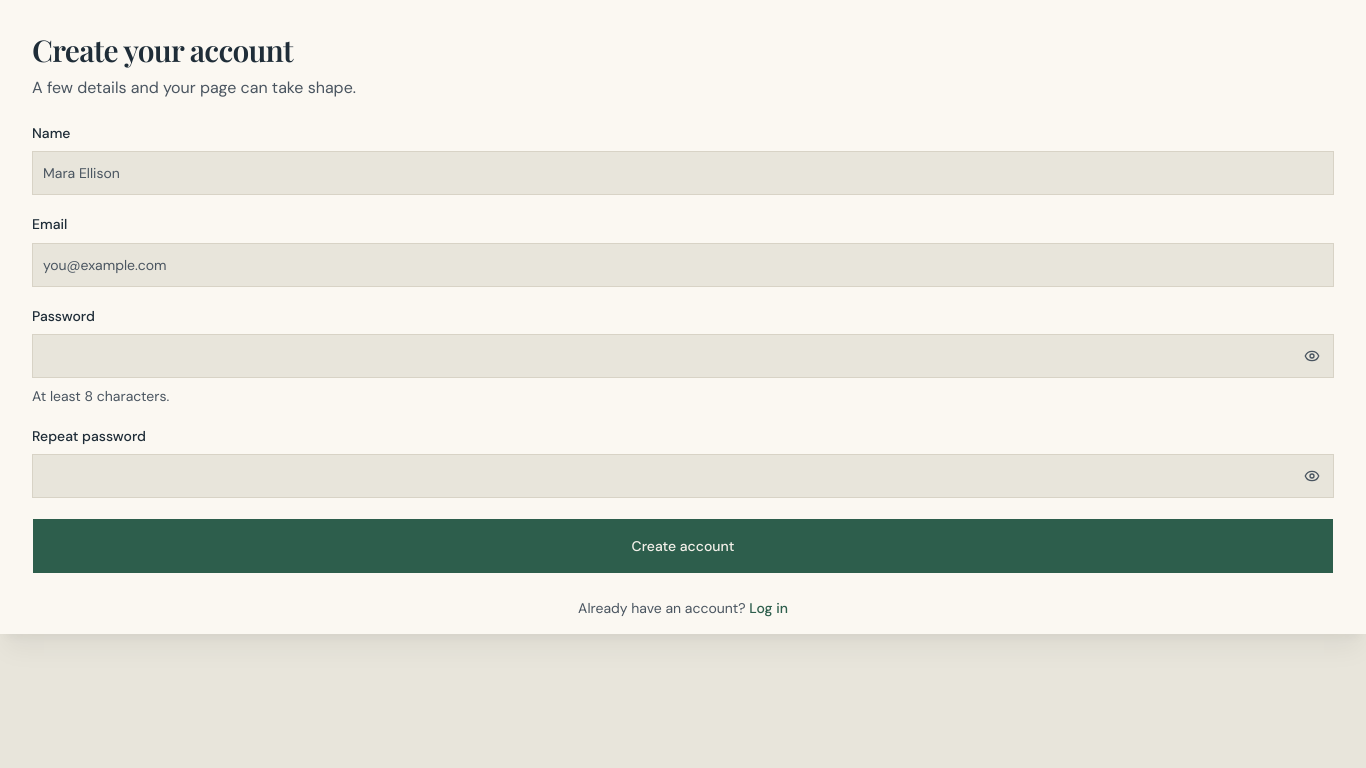
Scenario: SignupFlow › after sign-up it asks to confirm the email instead of opening the dashboard
In the field labelled "Name": (683, 173) 32,151 -> 1334,195, type "Mara"
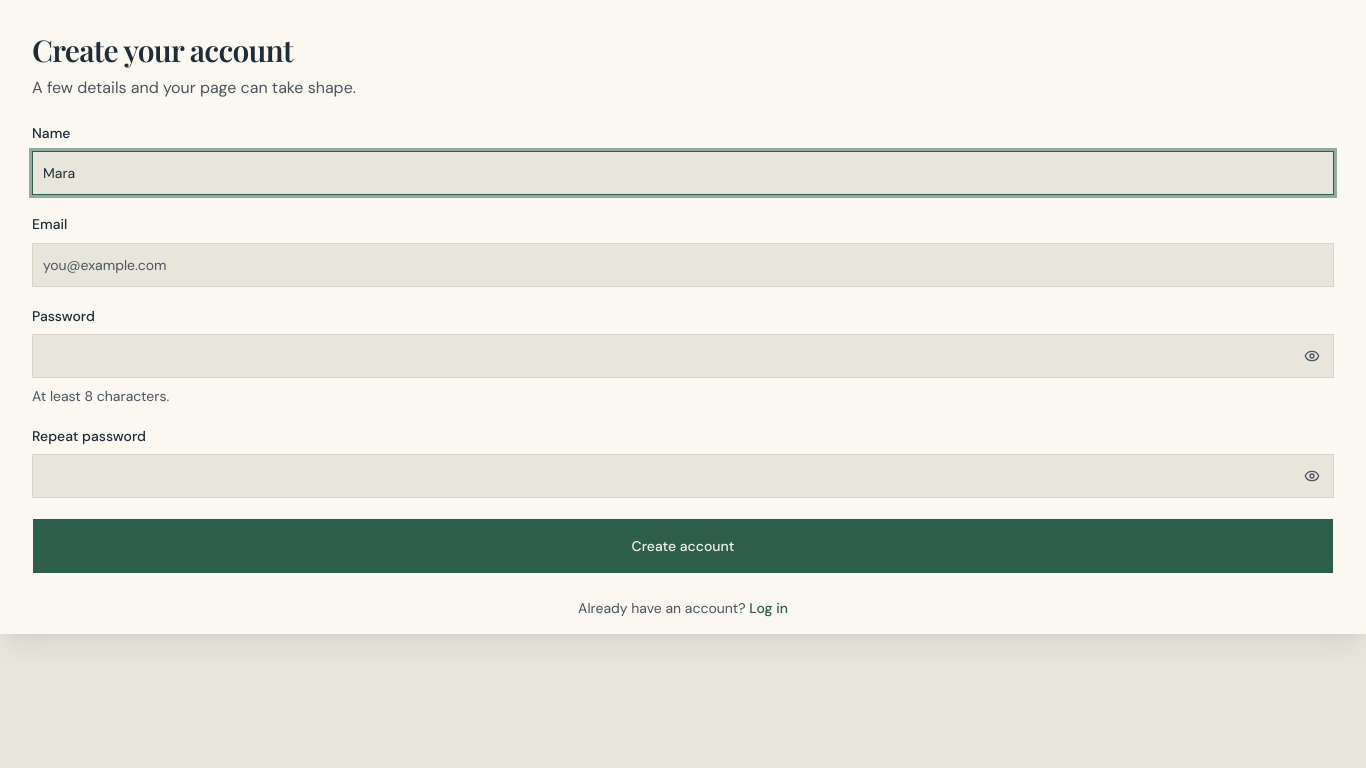
In the field labelled "Email": (683, 264) 32,242 -> 1334,286, type "mara@example.com"
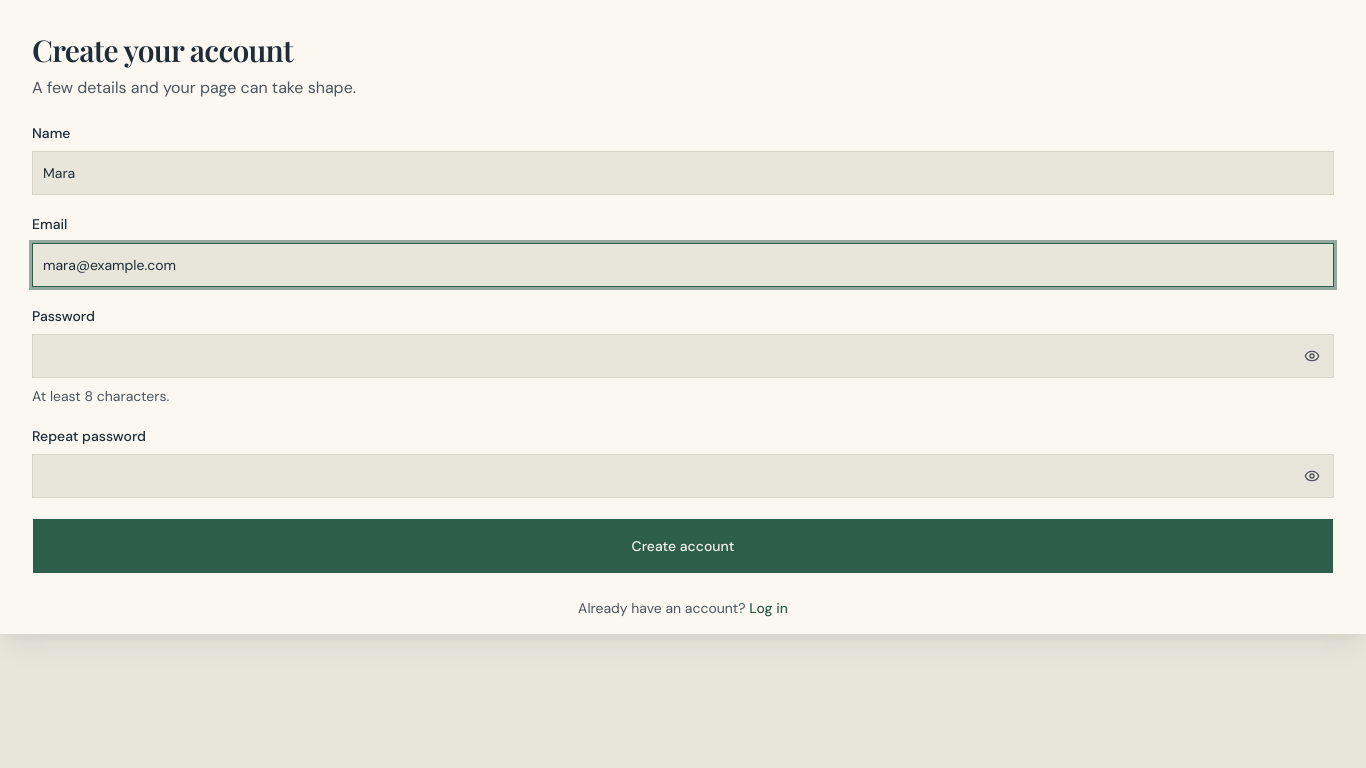
In the password field labelled "Password": (683, 356) 32,334 -> 1334,378, type "long enough"
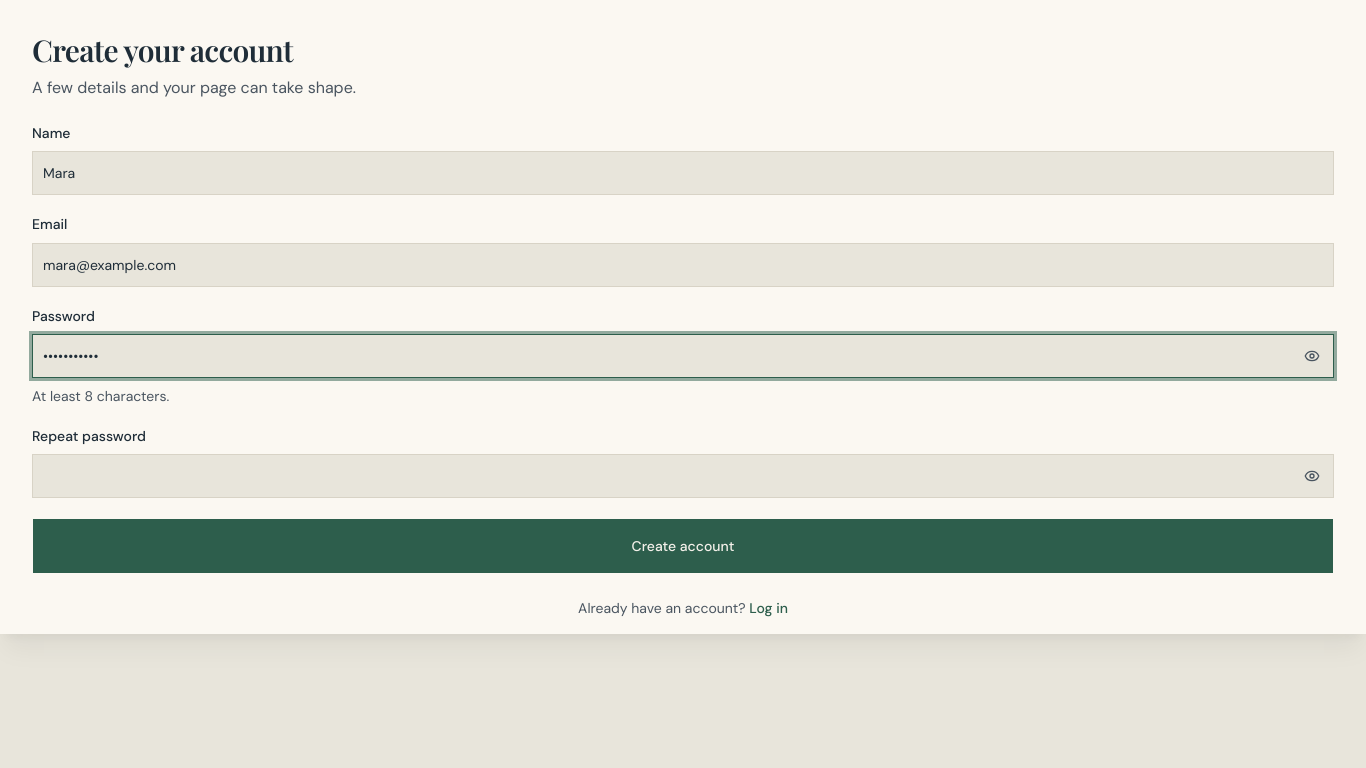
In the password field labelled "Repeat password": (683, 476) 32,454 -> 1334,498, type "long enough"
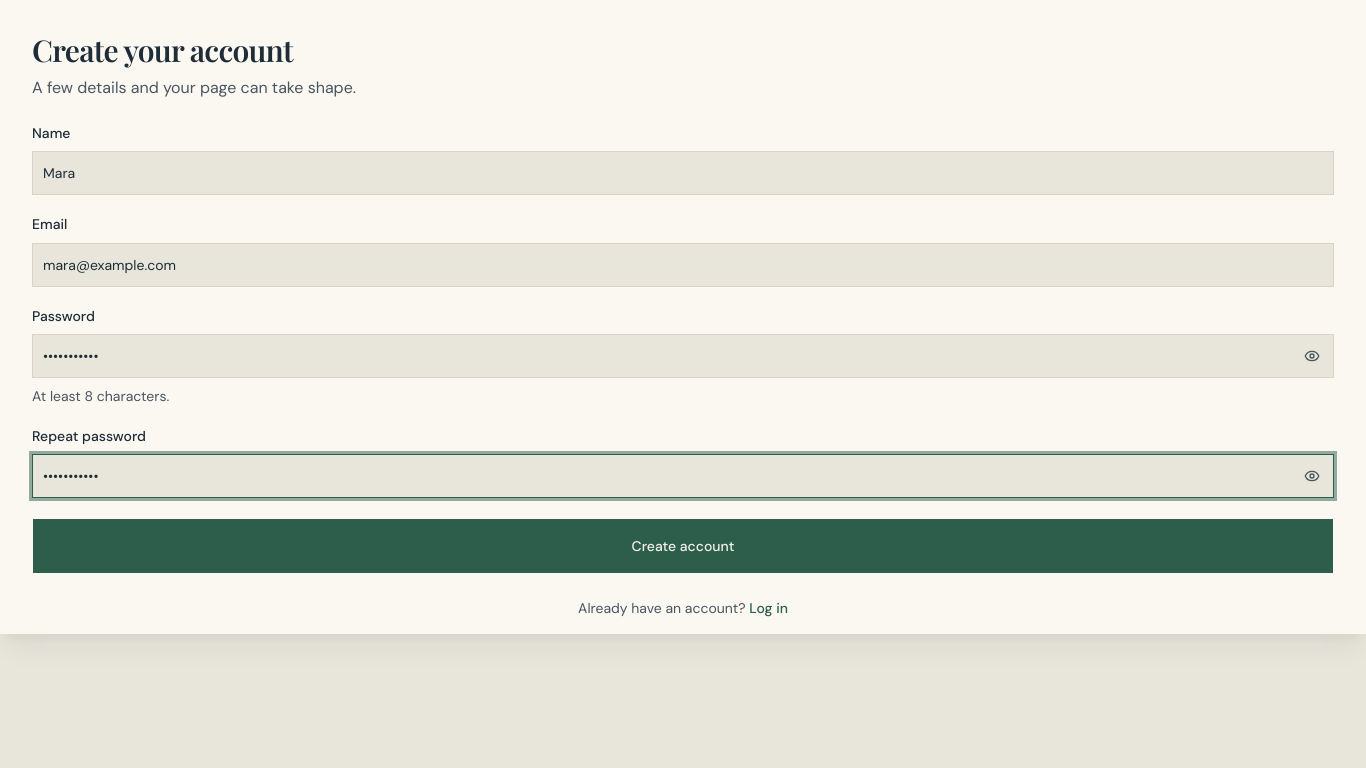
Click the button "Create account": (683, 546) 32,518 -> 1334,574
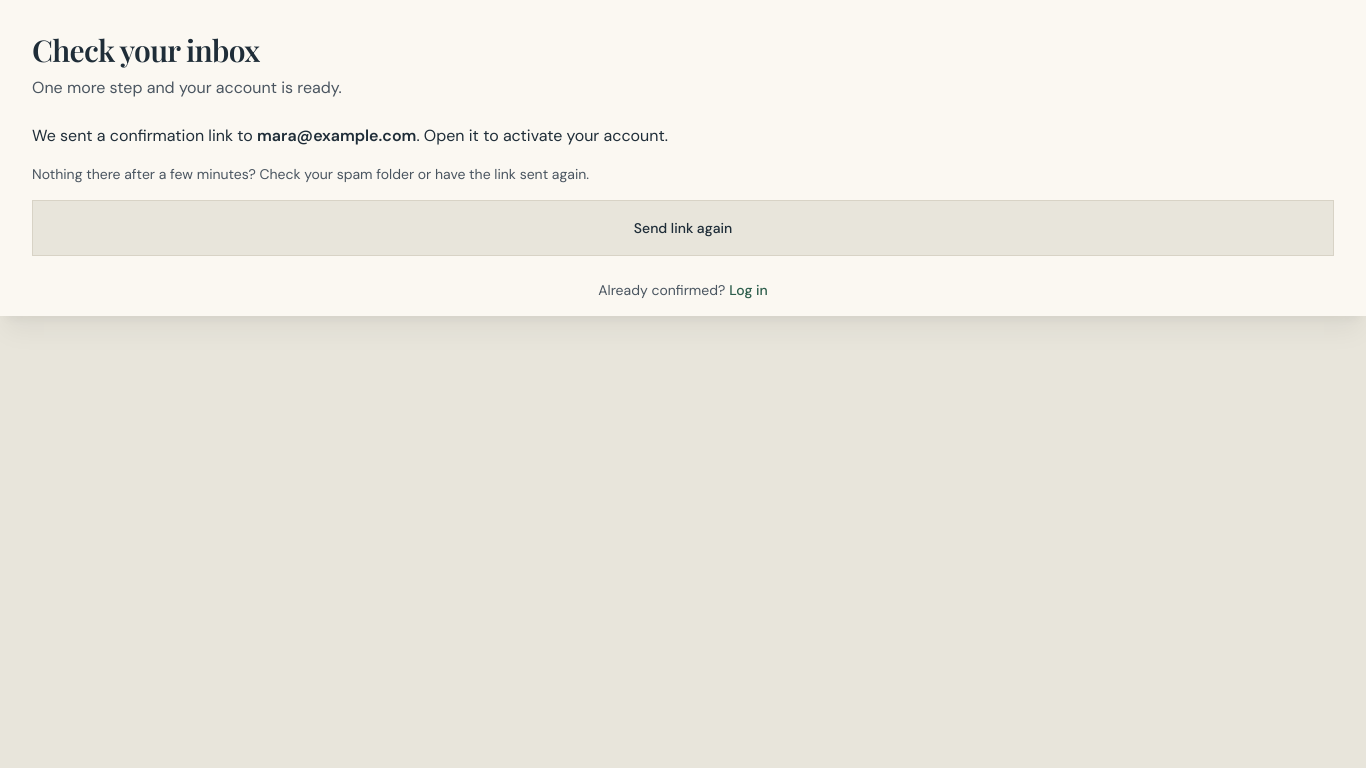
Now the heading "Check your inbox" is shown, box 32,30 -> 259,70
Now the text "We sent a confirmation link to" shows "mara@example.com", box 257,125 -> 416,146
Now the form is gone
